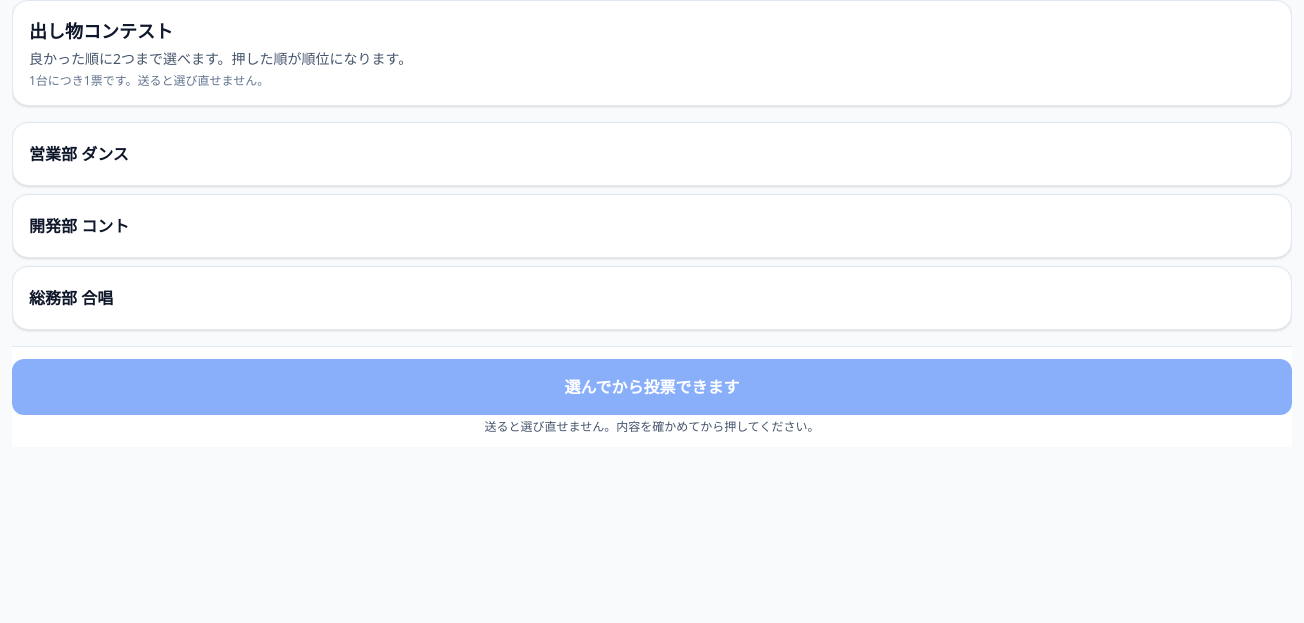
Test: 3位まで選ぶ投票 › 決めた数より多くは選べない
This screenshot has width=1304, height=623.
Click the button "営業部 ダンス" at x=79, y=154, box [12,122,1292,186]
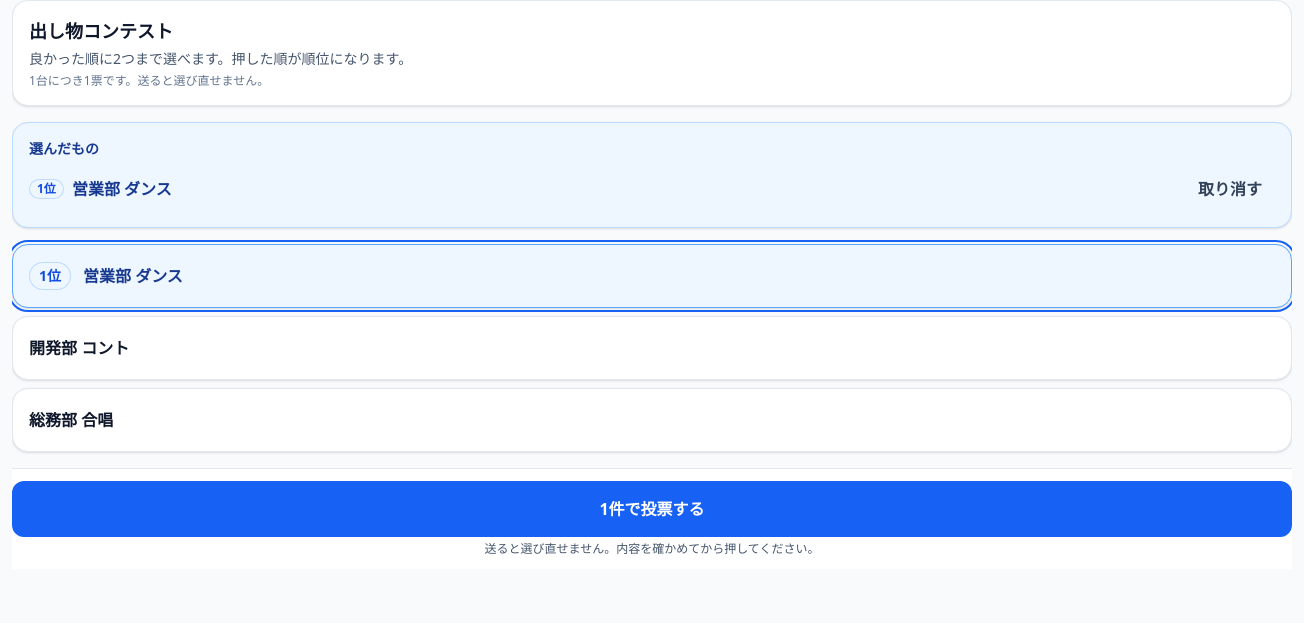
Click the button "開発部 コント" at x=79, y=348, box [12,316,1292,380]
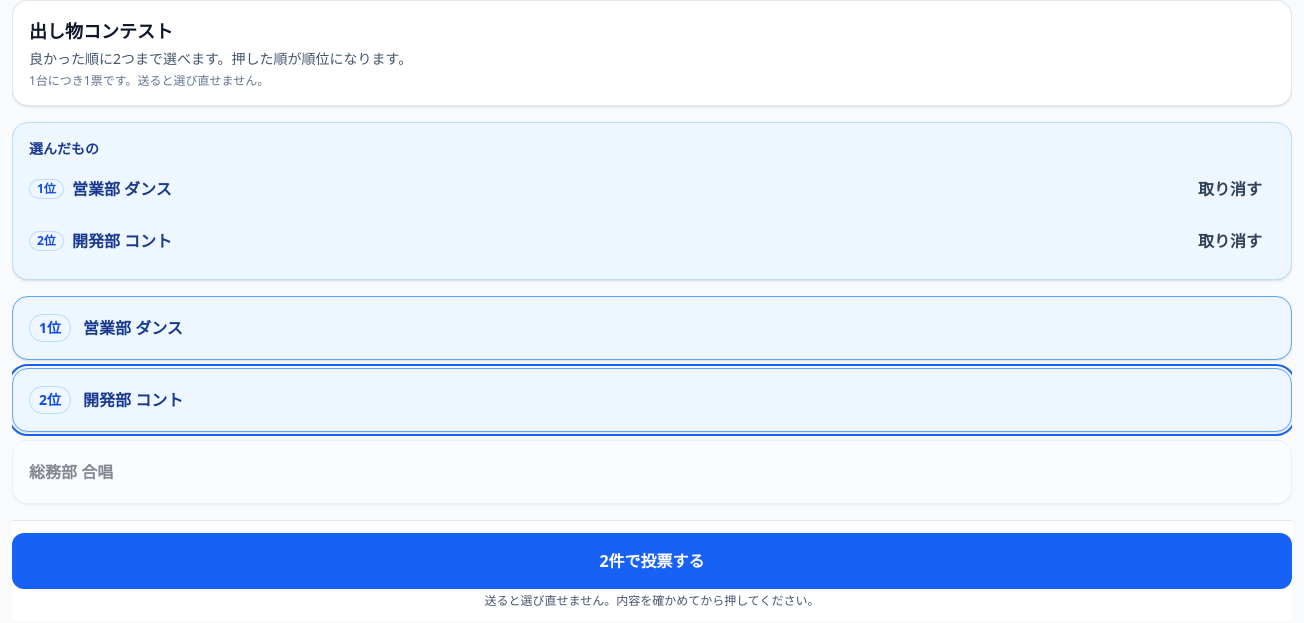
Result: the button "総務部 合唱" is disabled at [12,440,1292,504]
